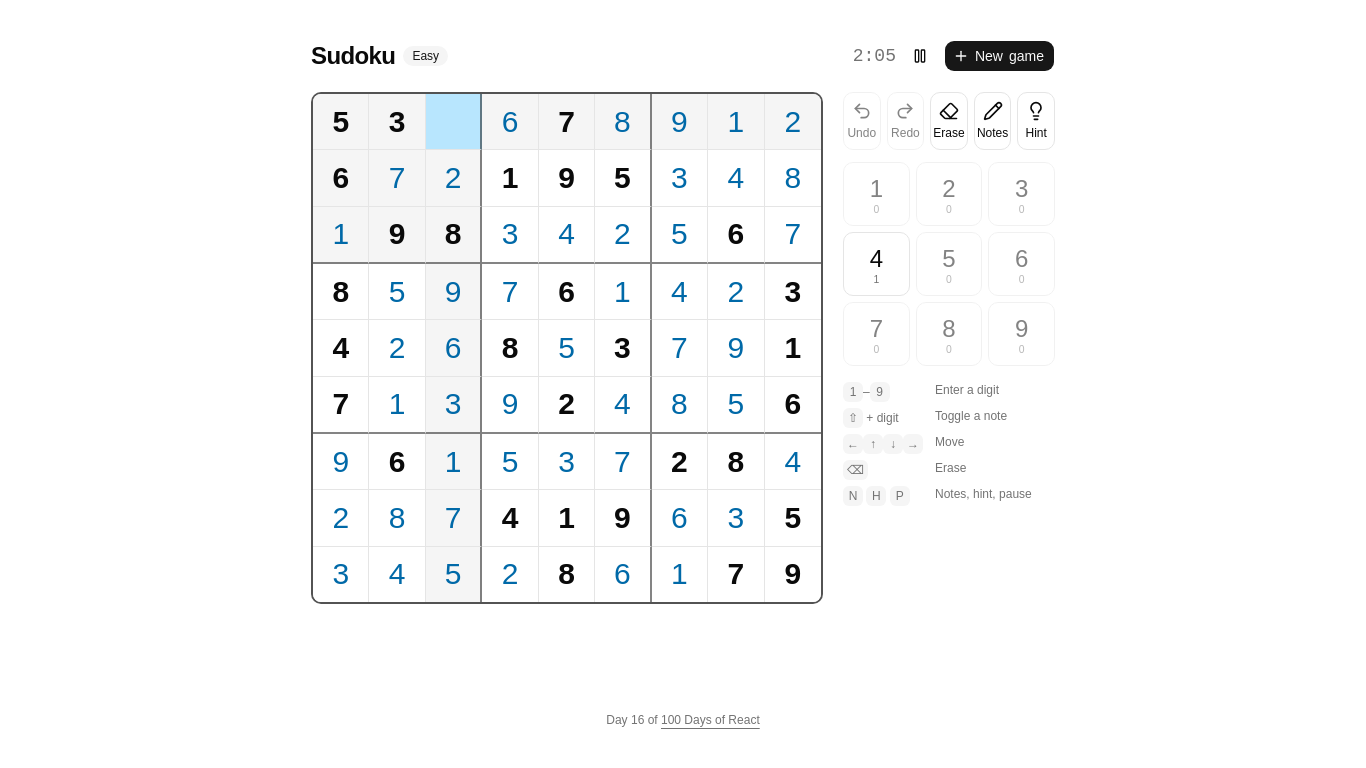
it: winning › celebrates a solve, records the best time and offers a new game
Press 4
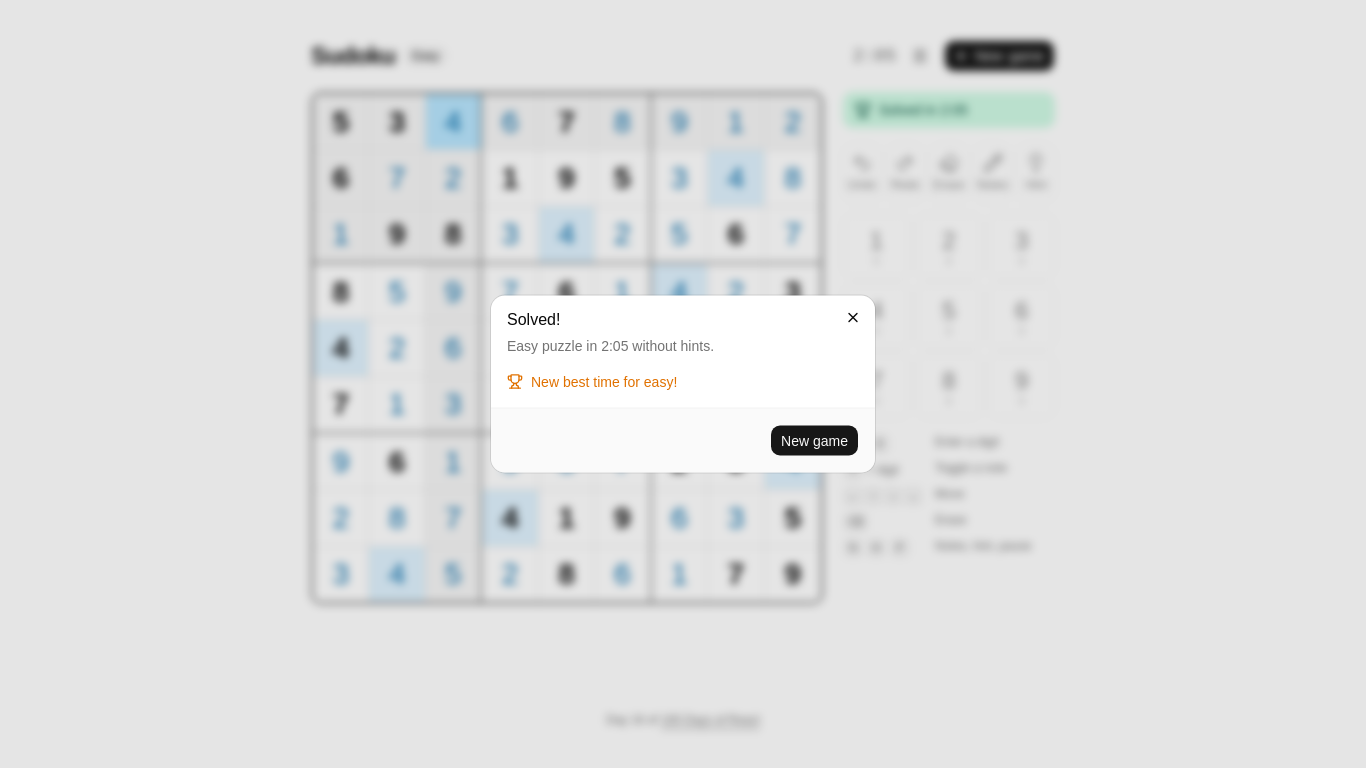
Result: the text "Easy puzzle in 2:05 without hints." is shown at [507,338,714,354]
Result: the text "New best time for easy!" is shown at [507,374,677,390]
Click the button "New game" at (815, 440), box [770,424,859,456]
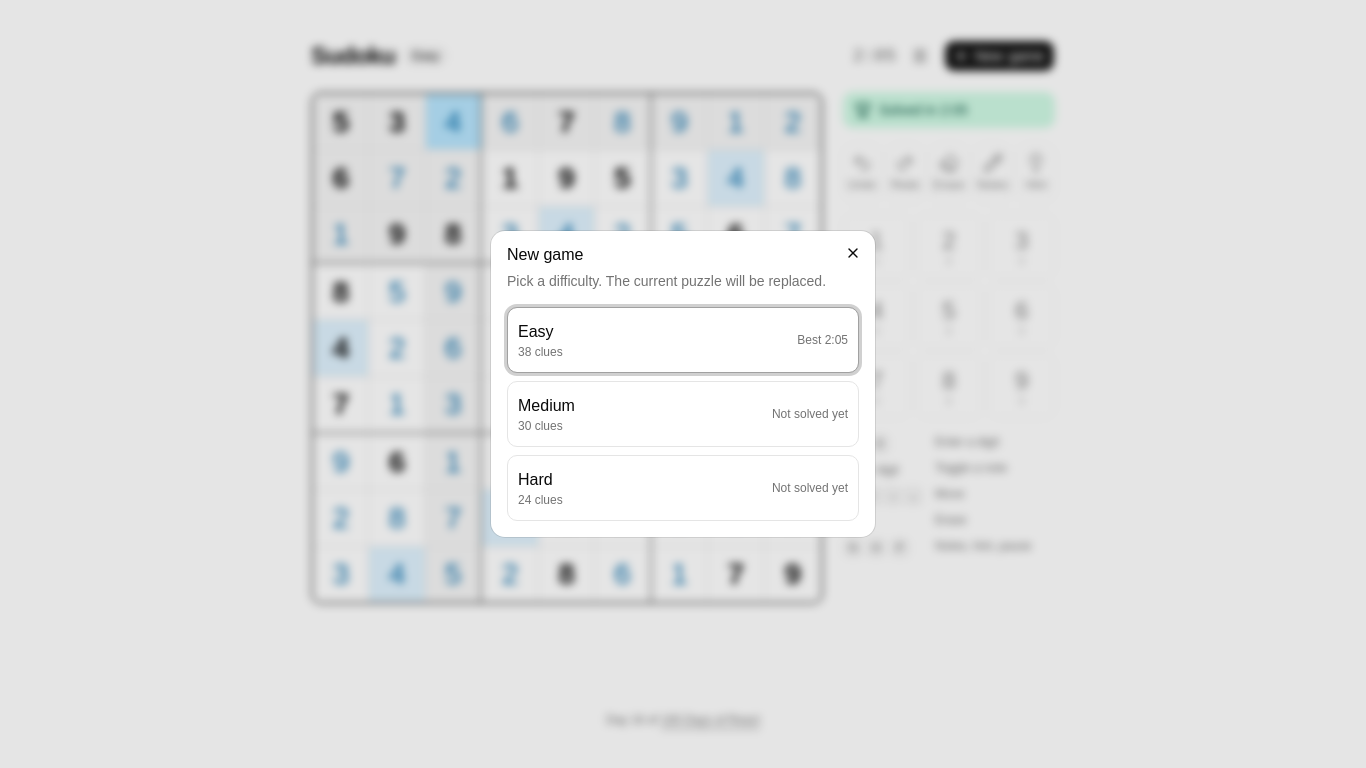
Result: the button "Easy 38 clues Best 2:05" is shown at [507,307,859,373]
